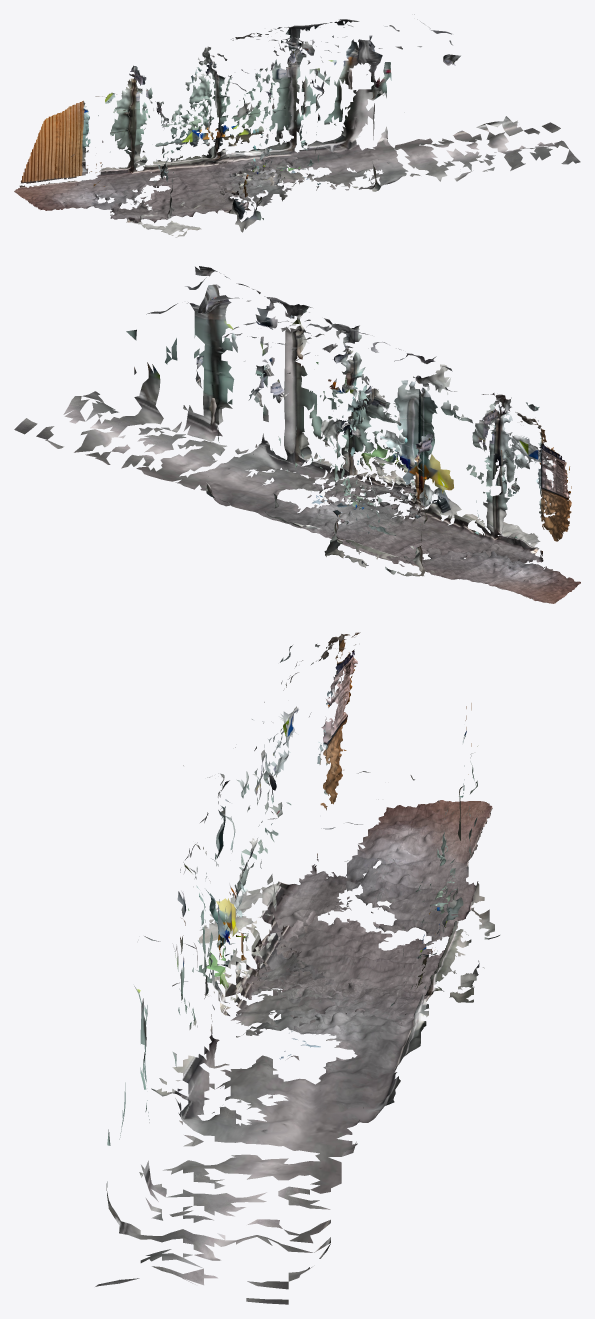
The model's file is 138109-3rd_Floor_Corridor-tex.glb.
3 renders of one model, top to bottom at view 1: azimuth 30°, elevation 25°; view 2: azimuth 150°, elevation 25°; view 3: azimuth 270°, elevation 25°, orthographic. The views are drawn at different scales.
Parts seen in each view (by area): view 1: Node; view 2: Node; view 3: Node.
Part boxes in pixels (box(x1,y1,x2,y2)): Node: box(14, 14, 580, 237); Node: box(14, 266, 580, 603); Node: box(95, 632, 499, 1304).
Size of the model in its own units: 10.45 by 3.14 by 3.76.
Materials: 11 (11 with a texture image).
